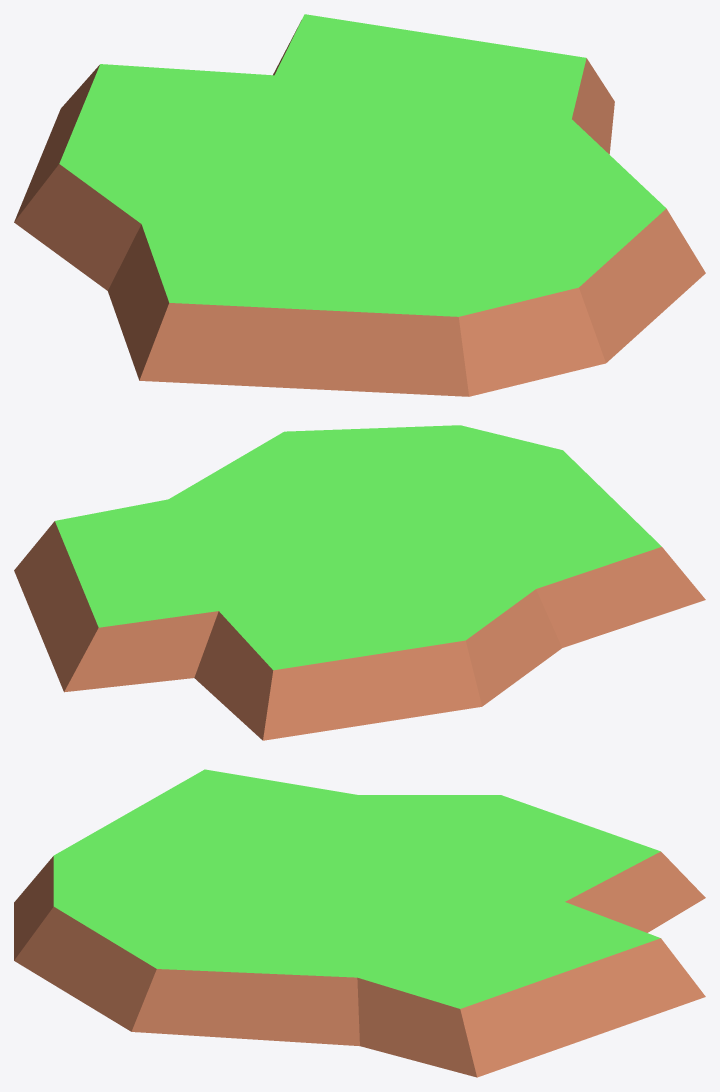
Rendered from Rock030.fbx.
3 renders of one model, top to bottom at view 1: azimuth 30°, elevation 25°; view 2: azimuth 150°, elevation 25°; view 3: azimuth 270°, elevation 25°, orthographic. The views are drawn at different scales.
Visible parts, largest first — view 1: Rock030; view 2: Rock030; view 3: Rock030.
Part boxes in pixels (<box>): Rock030: <box>14,14,705,396</box>; Rock030: <box>14,425,705,740</box>; Rock030: <box>14,769,705,1077</box>.
Size of the model in its own units: 125 by 11.23 by 134.
